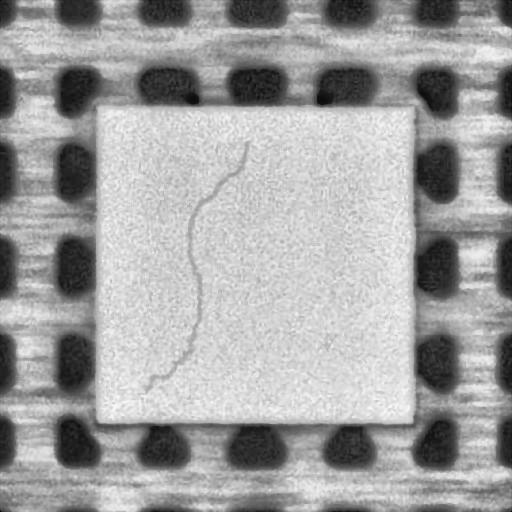DIE_CRACK: (144, 142, 249, 392)
